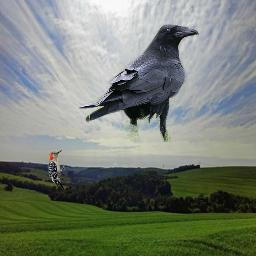Crow: (77, 24, 199, 142)
Woodpecker: (47, 149, 65, 192)
